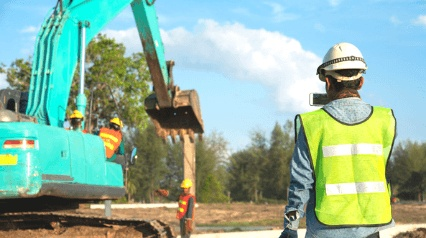helmet: (316, 44, 366, 76), (65, 111, 85, 119), (108, 118, 123, 128), (179, 179, 193, 188)
person with full safety: (286, 42, 395, 238), (172, 178, 198, 237), (95, 114, 125, 161)
person with partial safety: (65, 111, 86, 132)
safety vest: (296, 103, 397, 225), (98, 127, 123, 158), (175, 194, 193, 221)
